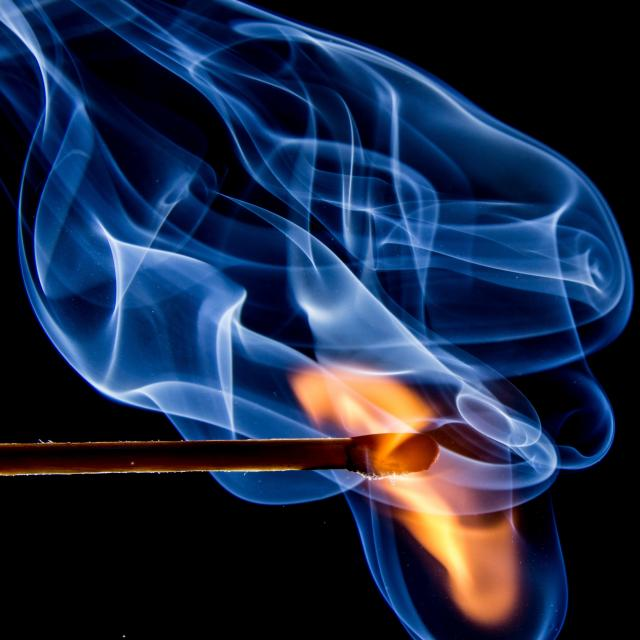fire: (274, 328, 583, 622)
